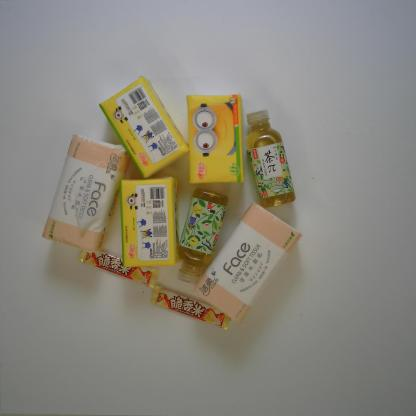Chocolate: (145, 282, 233, 332), (79, 247, 161, 291)
Drink: (169, 186, 234, 286), (244, 106, 296, 210)
Tissue: (189, 200, 304, 320), (38, 132, 132, 256), (97, 72, 190, 180), (183, 92, 248, 188), (119, 173, 178, 269)
